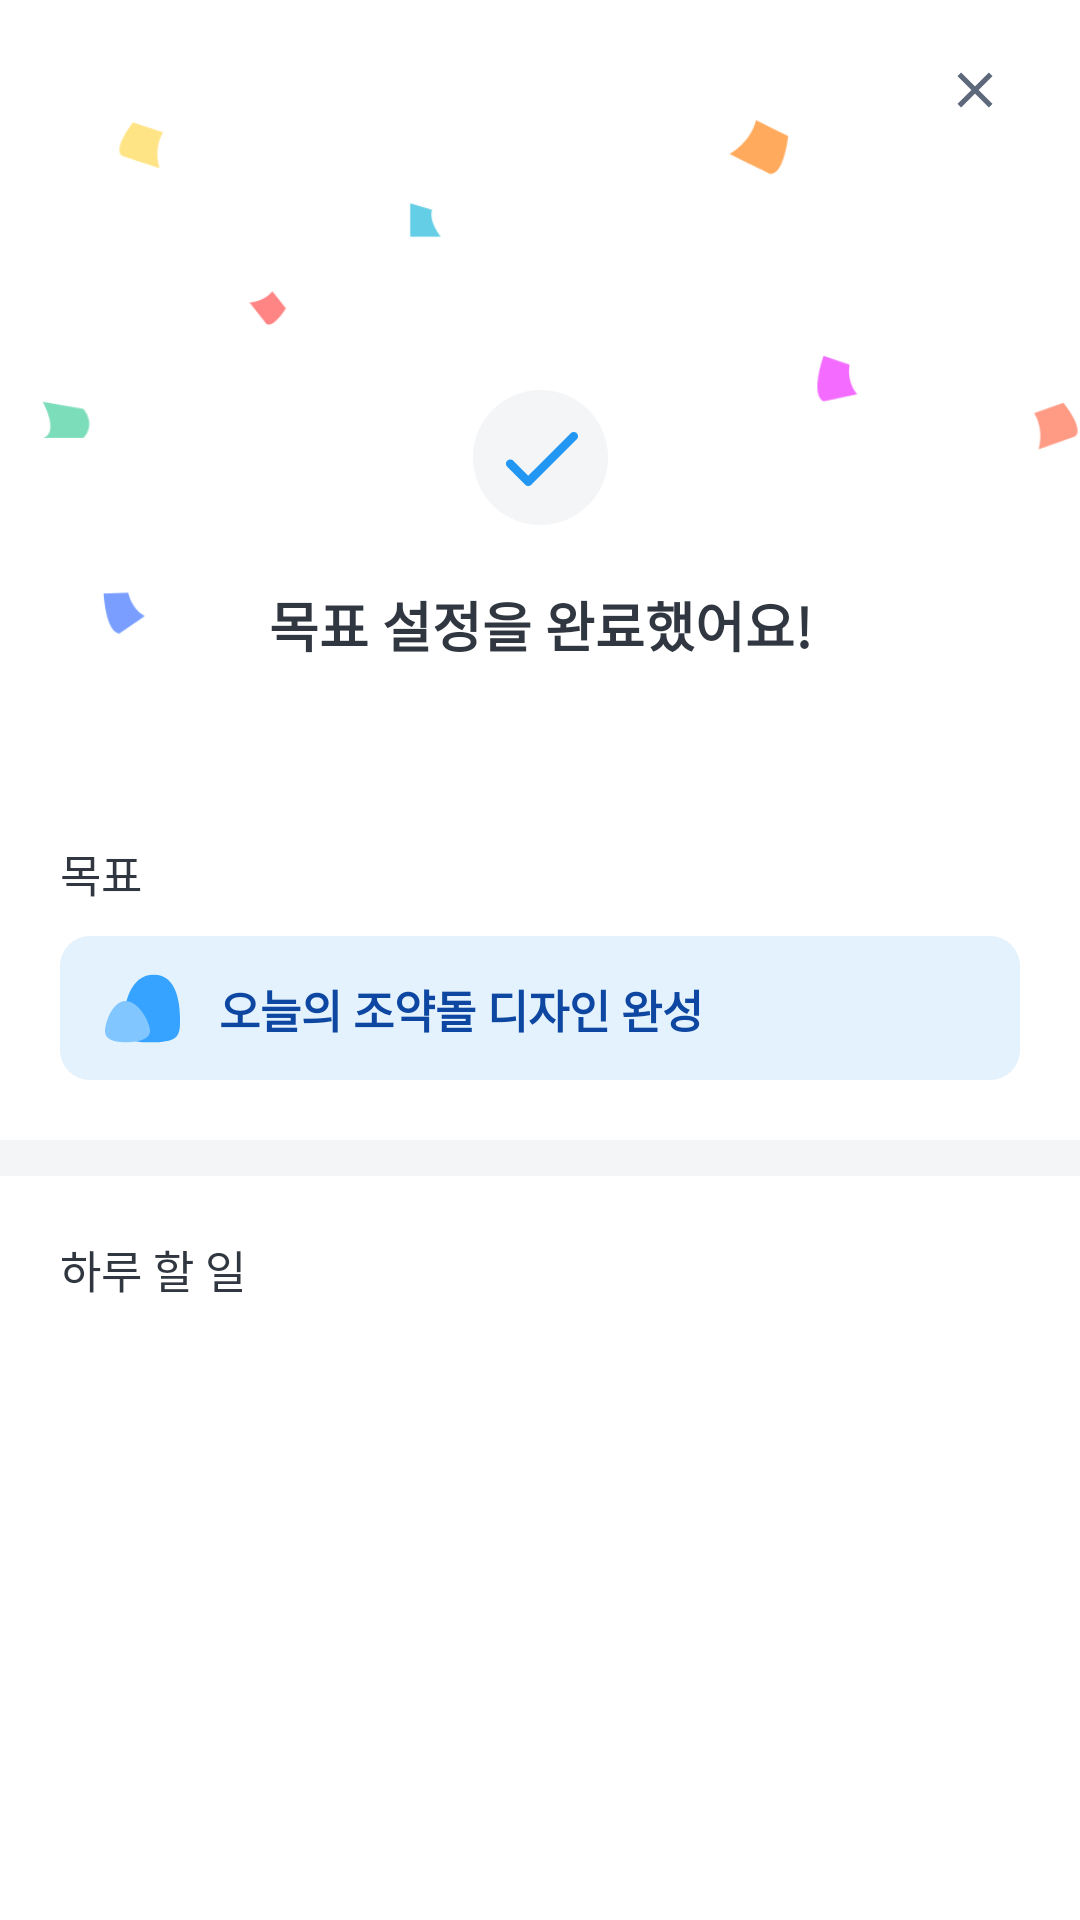

Screen size 1080px x 1920px. Icon name, then its center in pixels as point (x, y):
close: point (975, 90)
result: point (540, 457)
